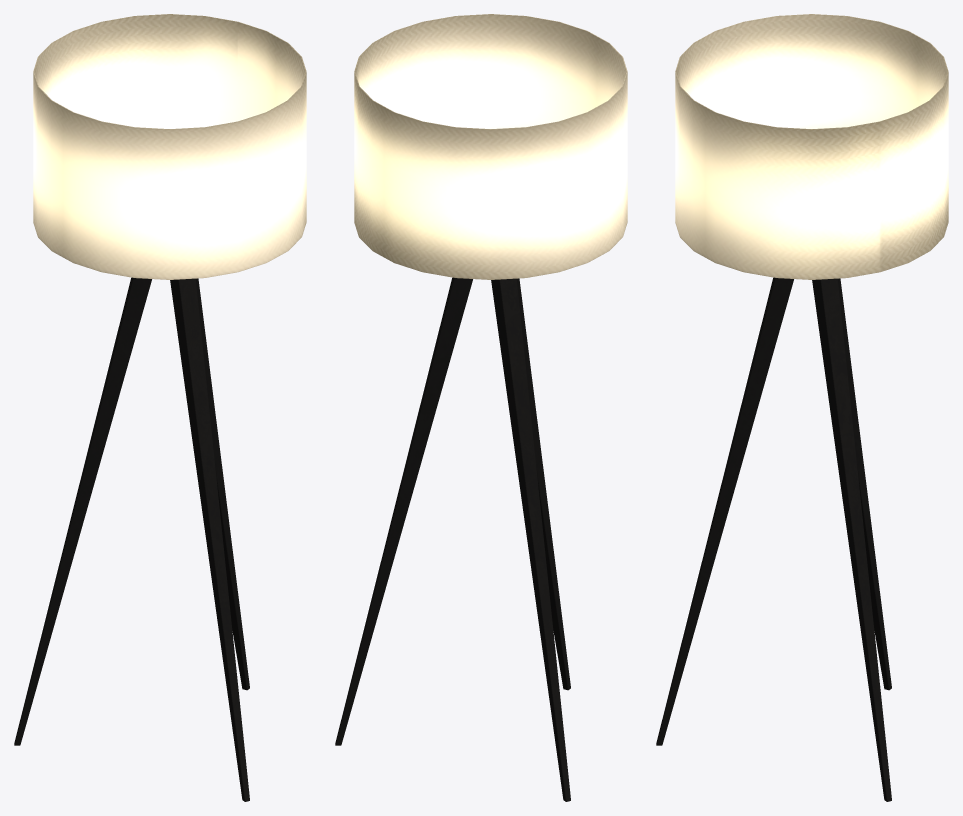
The model's file is floor_lamp.fbx.
3 renders of one model, left to right at view 1: azimuth 30°, elevation 25°; view 2: azimuth 150°, elevation 25°; view 3: azimuth 270°, elevation 25°, orthographic.
Visible parts, largest first — view 1: Cylinder.002; view 2: Cylinder.002; view 3: Cylinder.002.
Boxes of the visible parts, box(x1,y1,x2,y2) form: Cylinder.002: box(14, 14, 306, 801); Cylinder.002: box(335, 14, 627, 801); Cylinder.002: box(656, 14, 948, 801).
Bounding box in the file's own units: 83.2 × 226 × 88.95.
